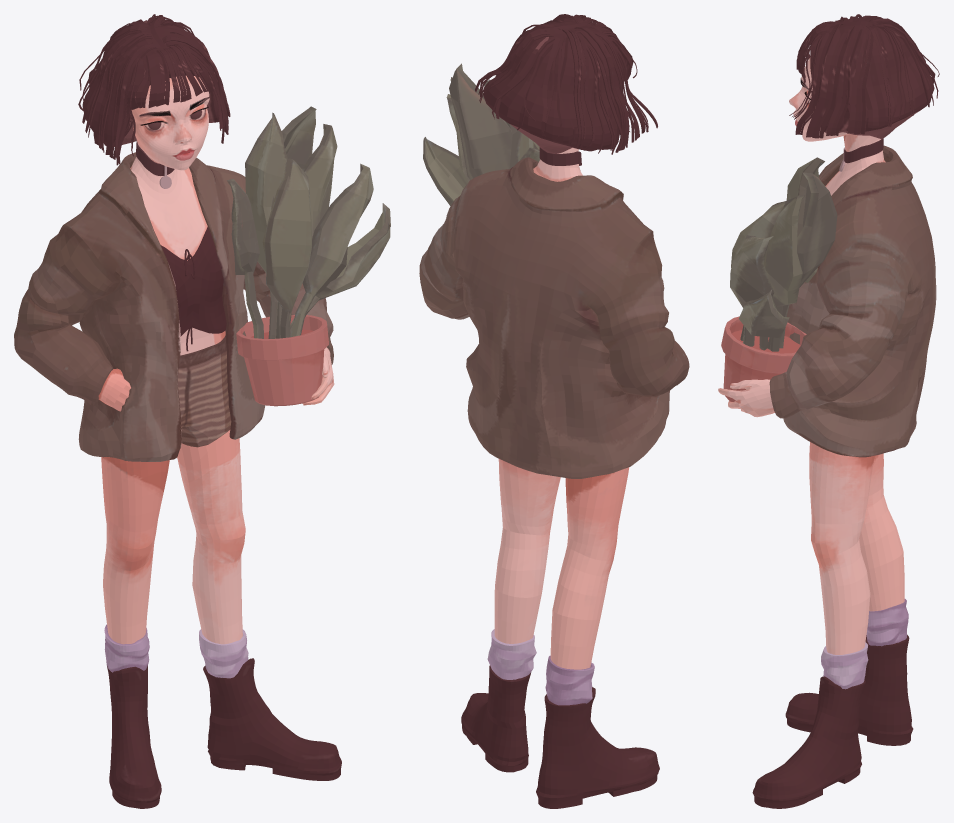
File: matilda.glb
3 views of the same model, side by side, from view 1: azimuth 30°, elevation 25°; view 2: azimuth 150°, elevation 25°; view 3: azimuth 270°, elevation 25° (orthographic). The views are drawn at different scales.
Visible parts, largest first — view 1: polySurface80_surfaceShader1_0, polySurface74_surfaceShader1_0, polySurface87_surfaceShader1_0, polySurface67_surfaceShader1_0, polySurface86_surfaceShader1_0, polySurface66_surfaceShader1_0, polySurface75_surfaceShader1_0, polySurface68_surfaceShader1_0, polySurface85_surfaceShader1_0, polySurface76_surfaceShader1_0, polySurface69_surfaceShader1_0, hairStrands_v2:polySurface28_surfaceShader1_0 (+7 smaller); view 2: polySurface80_surfaceShader1_0, polySurface74_surfaceShader1_0, hairStrands_v2:polySurface28_surfaceShader1_0, polySurface86_surfaceShader1_0, polySurface87_surfaceShader1_0, polySurface102_surfaceShader1_0, polySurface77_surfaceShader1_0, polySurface62_surfaceShader1_0, polySurface78_surfaceShader1_0, polySurface69_surfaceShader1_0, polySurface60_surfaceShader1_0, hairStrands_v2:Group52555_surfaceShader1_0 (+1 smaller); view 3: polySurface80_surfaceShader1_0, polySurface74_surfaceShader1_0, polySurface87_surfaceShader1_0, polySurface86_surfaceShader1_0, hairStrands_v2:polySurface28_surfaceShader1_0, polySurface67_surfaceShader1_0, polySurface72_surfaceShader1_0, polySurface102_surfaceShader1_0, polySurface68_surfaceShader1_0, polySurface62_surfaceShader1_0, polySurface77_surfaceShader1_0, polySurface78_surfaceShader1_0 (+15 smaller).
Part boxes in pixels (x1=…): polySurface80_surfaceShader1_0: x1=14, y1=152, x2=333, y2=461; polySurface74_surfaceShader1_0: x1=101, y1=143, x2=245, y2=644; polySurface87_surfaceShader1_0: x1=203, y1=658, x2=341, y2=780; polySurface67_surfaceShader1_0: x1=236, y1=315, x2=328, y2=406; polySurface86_surfaceShader1_0: x1=107, y1=665, x2=161, y2=808; polySurface66_surfaceShader1_0: x1=262, y1=158, x2=311, y2=338; polySurface75_surfaceShader1_0: x1=178, y1=331, x2=231, y2=447; polySurface68_surfaceShader1_0: x1=290, y1=163, x2=373, y2=336; polySurface85_surfaceShader1_0: x1=131, y1=75, x2=209, y2=170; polySurface76_surfaceShader1_0: x1=161, y1=226, x2=226, y2=336; polySurface69_surfaceShader1_0: x1=245, y1=112, x2=287, y2=338; hairStrands_v2:polySurface28_surfaceShader1_0: x1=82, y1=19, x2=219, y2=146; polySurface80_surfaceShader1_0: x1=419, y1=157, x2=689, y2=478; polySurface74_surfaceShader1_0: x1=494, y1=147, x2=629, y2=669; hairStrands_v2:polySurface28_surfaceShader1_0: x1=483, y1=17, x2=624, y2=153; polySurface86_surfaceShader1_0: x1=536, y1=687, x2=659, y2=808; polySurface87_surfaceShader1_0: x1=461, y1=665, x2=531, y2=772; polySurface102_surfaceShader1_0: x1=449, y1=63, x2=512, y2=179; polySurface77_surfaceShader1_0: x1=545, y1=655, x2=594, y2=705; polySurface62_surfaceShader1_0: x1=423, y1=137, x2=468, y2=205; polySurface78_surfaceShader1_0: x1=487, y1=629, x2=536, y2=679; polySurface69_surfaceShader1_0: x1=484, y1=79, x2=534, y2=168; polySurface60_surfaceShader1_0: x1=539, y1=147, x2=581, y2=165; hairStrands_v2:Group52555_surfaceShader1_0: x1=541, y1=33, x2=560, y2=135; polySurface80_surfaceShader1_0: x1=769, y1=145, x2=936, y2=457; polySurface74_surfaceShader1_0: x1=809, y1=134, x2=904, y2=654; polySurface87_surfaceShader1_0: x1=752, y1=676, x2=865, y2=808; polySurface86_surfaceShader1_0: x1=785, y1=634, x2=913, y2=745; hairStrands_v2:polySurface28_surfaceShader1_0: x1=810, y1=17, x2=934, y2=138; polySurface67_surfaceShader1_0: x1=721, y1=316, x2=806, y2=401; polySurface72_surfaceShader1_0: x1=765, y1=194, x2=805, y2=351; polySurface102_surfaceShader1_0: x1=767, y1=172, x2=837, y2=349; polySurface68_surfaceShader1_0: x1=730, y1=235, x2=774, y2=346; polySurface62_surfaceShader1_0: x1=738, y1=289, x2=789, y2=350; polySurface77_surfaceShader1_0: x1=866, y1=599, x2=908, y2=646; polySurface78_surfaceShader1_0: x1=821, y1=642, x2=868, y2=689.
Bounding box in the file's own units: 1.08 × 2.5 × 0.694.
1 material, 1 textured.
